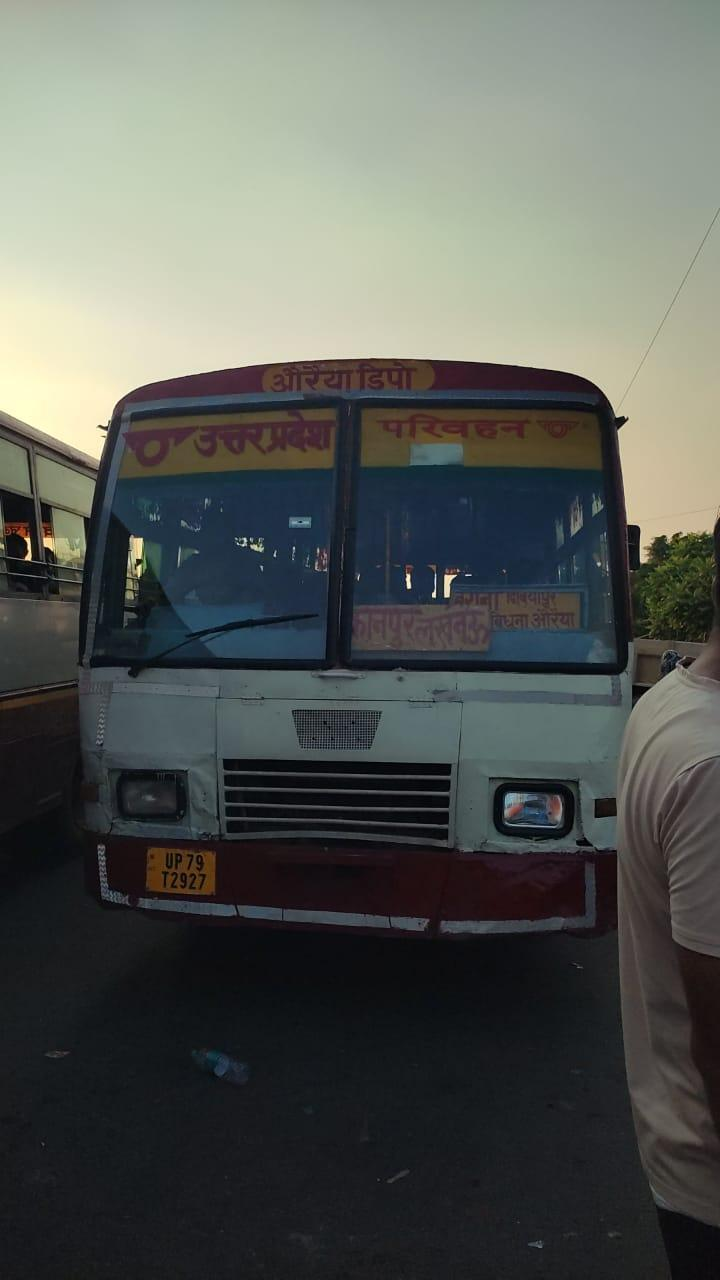Bus: (78, 361, 634, 944)
